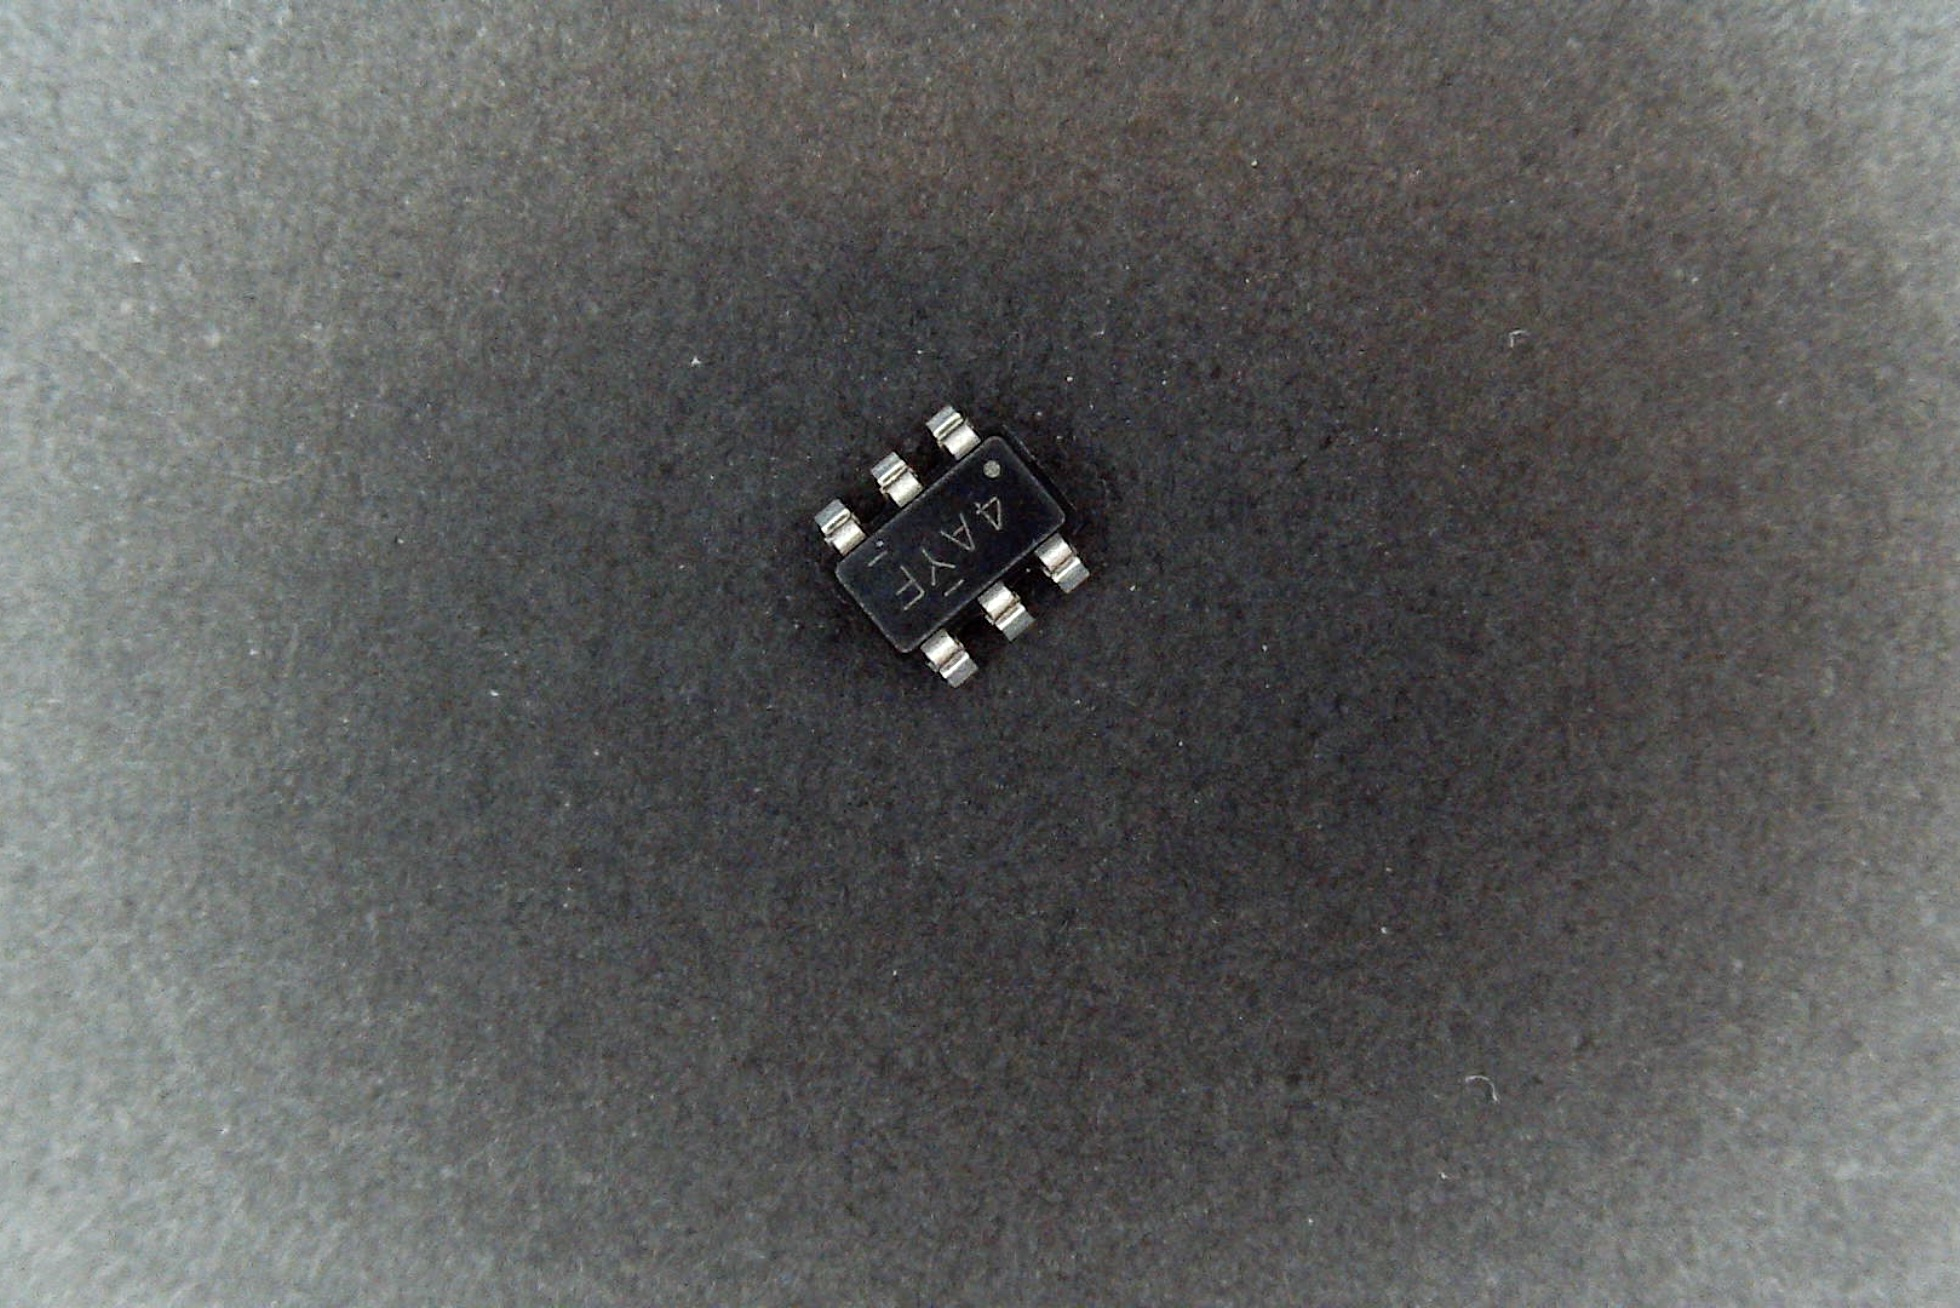bbox: (809, 399, 1093, 693)
